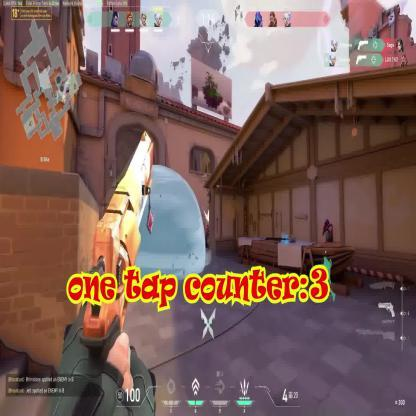enemy: (322, 218, 333, 264)
enemy_head: (326, 218, 330, 226)
